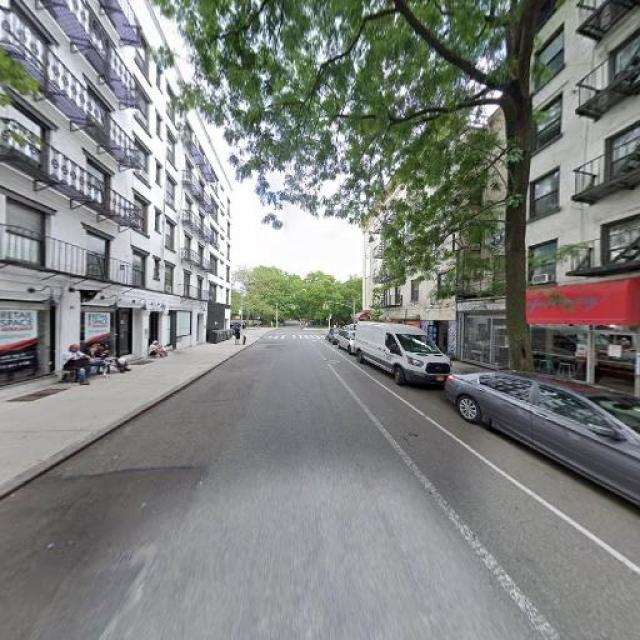Building: (1, 1, 169, 404), (524, 1, 640, 407), (173, 83, 229, 353)
